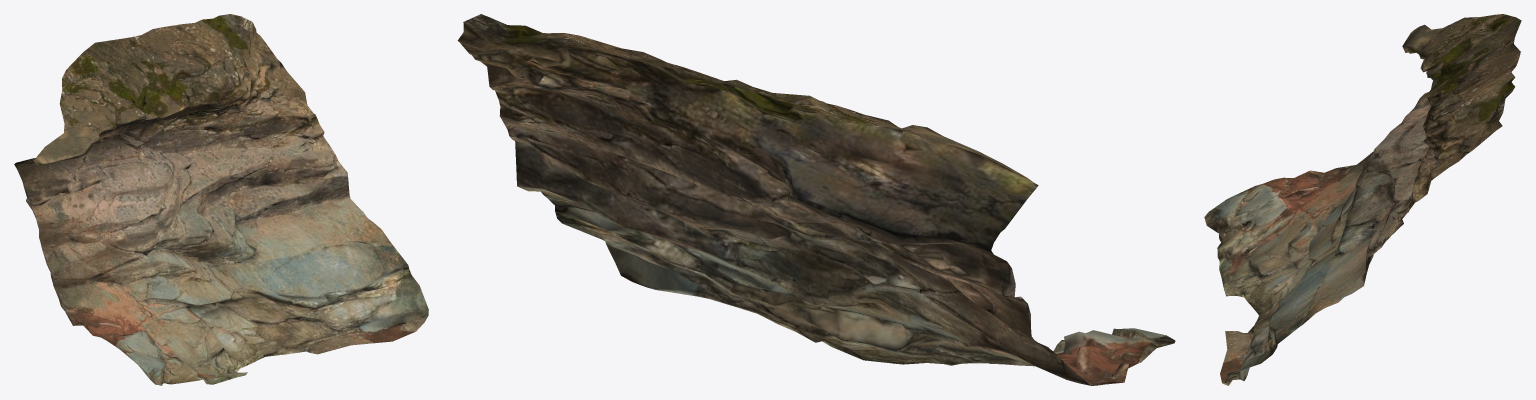
Rendered from rock_face_01.glb.
3 renders of one model, left to right at view 1: azimuth 30°, elevation 25°; view 2: azimuth 150°, elevation 25°; view 3: azimuth 270°, elevation 25°, orthographic. The views are drawn at different scales.
Bounding box in the file's own units: 4.92 × 3.56 × 3.82.
1 material, 1 textured.
